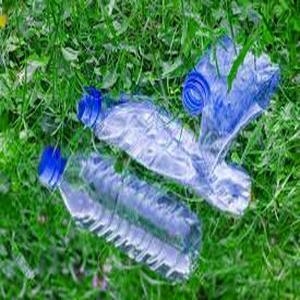Plastic: (80, 86, 257, 218), (40, 149, 201, 287), (185, 33, 292, 158)
